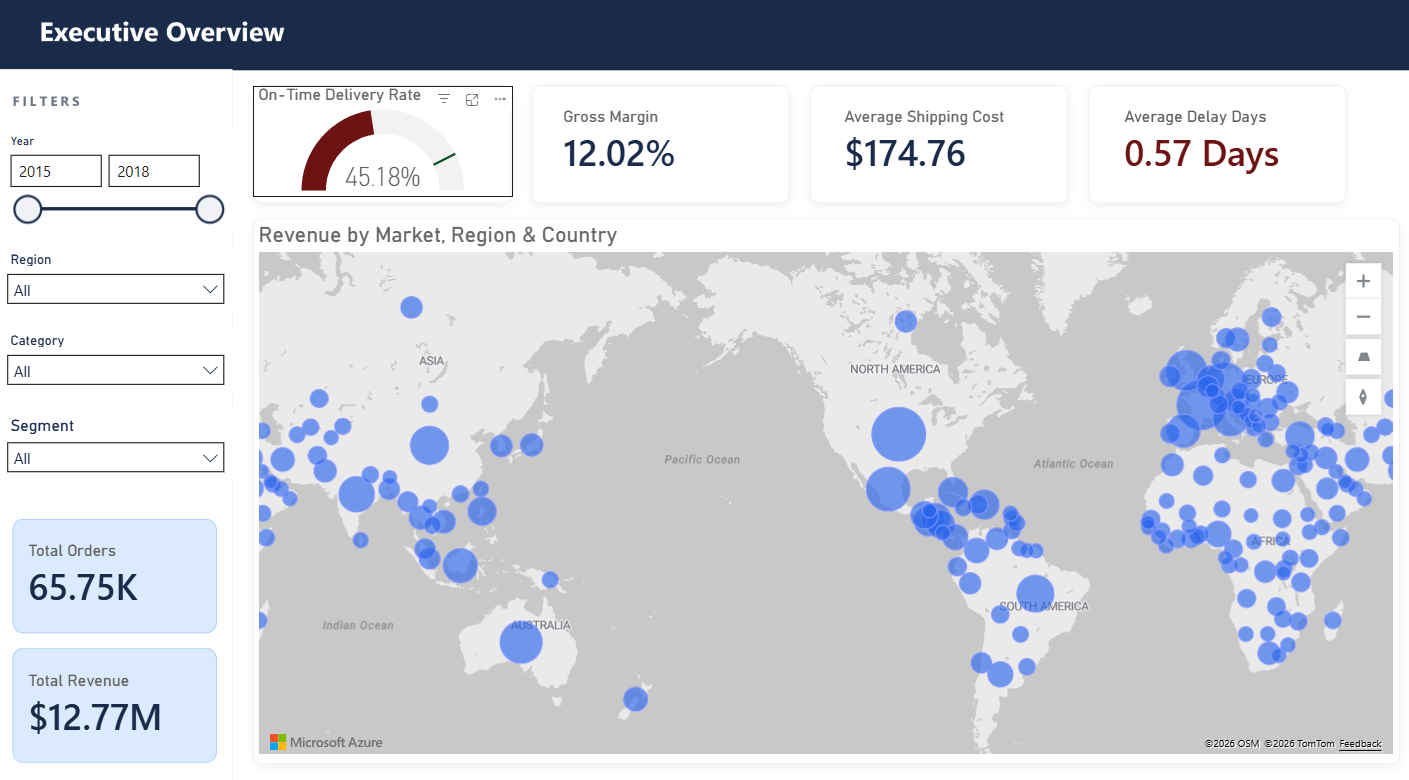

What the dashboard file says about the page in this screenshot:
{"tool":"powerbi","page":{"name":"Executive Operations","canvas":[1280,720],"ordinal":0},"visuals":[{"type":"gauge","fields":{"Y":["_Measures.On-Time Delivery Rate"]},"box":[231,83,233,99],"z":0},{"type":"cardVisual","fields":{"Data":["_Measures.Gross Margin %"]},"box":[480.3,82.6,231.6,98.8],"z":1000},{"type":"cardVisual","fields":{"Data":["_Measures.Avg Shipping Cost"]},"box":[732.9,82.9,231.4,98.6],"z":2000},{"type":"cardVisual","fields":{"Data":["_Measures.Avg Delay Days"]},"box":[984.3,82.9,231.4,98.6],"z":3000},{"type":"cardVisual","fields":{"Data":["_Measures.Total Revenue"]},"box":[0,588,198,100],"z":4000},{"type":"slicer","fields":{"Values":["dim_date.full_date.Variation.Date Hierarchy.Year"]},"box":[0.3,120,213,95],"z":5000},{"type":"slicer","fields":{"Values":["dim_region.region"]},"box":[0.3,226.1,215,60],"z":6000},{"type":"slicer","fields":{"Values":["dim_customer.customer_segment"]},"box":[0,374.2,215,60],"z":7000},{"type":"slicer","fields":{"Values":["dim_product.category"]},"box":[0.3,299.1,215,60],"z":8000},{"type":"cardVisual","fields":{"Data":["_Measures.Total Orders"]},"box":[0,471,198,100],"z":9000},{"type":"azureMap","title":"Revenue by Region & Country","fields":{"Category":["dim_region.country"]},"box":[230.7,204.7,1027.9,483],"z":10000}]}

Visuals, with their boxes in screenshot pixels (x1, y1, x2, y2), scaled from the page's 1280x720 canvas onto the 1409x780 screenshot:
gauge - _Measures.On-Time Delivery Rate: x1=254 y1=90 x2=511 y2=197
cardVisual - _Measures.Gross Margin %: x1=529 y1=89 x2=784 y2=197
cardVisual - _Measures.Avg Shipping Cost: x1=807 y1=90 x2=1061 y2=197
cardVisual - _Measures.Avg Delay Days: x1=1083 y1=90 x2=1338 y2=197
cardVisual - _Measures.Total Revenue: x1=0 y1=637 x2=218 y2=745
slicer - dim_date.full_date.Variation.Date Hierarchy.Year: x1=0 y1=130 x2=235 y2=233
slicer - dim_region.region: x1=0 y1=245 x2=237 y2=310
slicer - dim_customer.customer_segment: x1=0 y1=405 x2=237 y2=470
slicer - dim_product.category: x1=0 y1=324 x2=237 y2=389
cardVisual - _Measures.Total Orders: x1=0 y1=510 x2=218 y2=619
"Revenue by Region & Country" azureMap: x1=254 y1=222 x2=1385 y2=745
